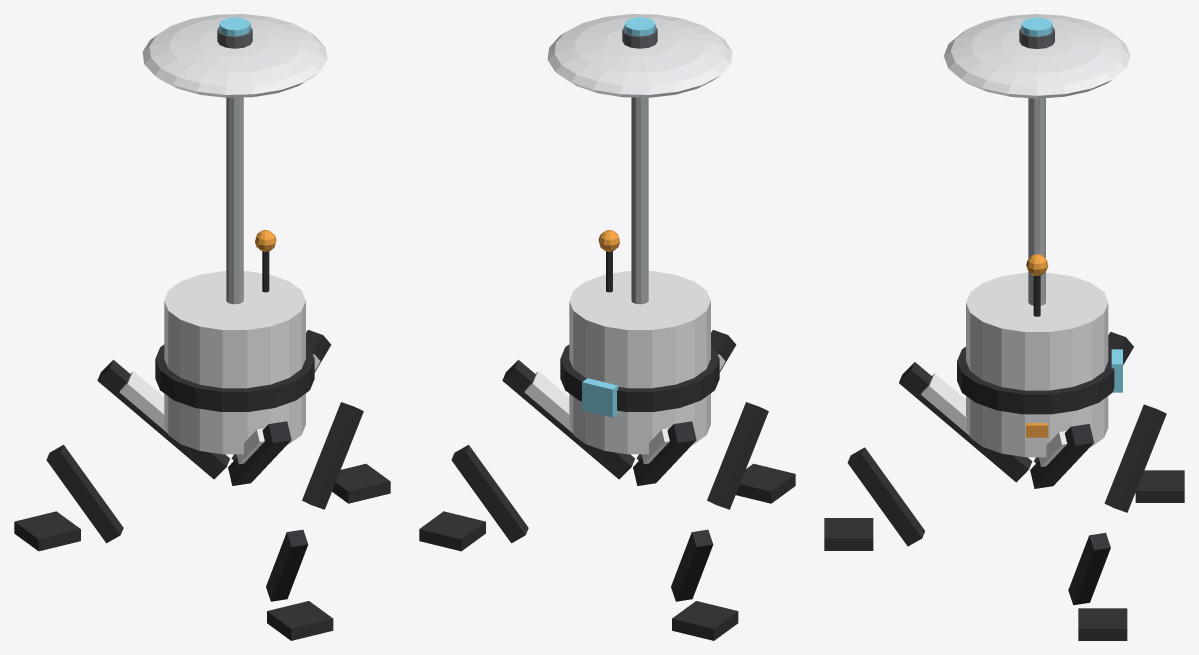
Rendered from SM_Unit_SurveyorBot.glb.
The picture shows the model from 3 angles, left to right: view 1: azimuth 30°, elevation 25°; view 2: azimuth 150°, elevation 25°; view 3: azimuth 270°, elevation 25°; orthographic projection.
Visible parts, largest first — view 1: SM_Unit_SurveyorBot; view 2: SM_Unit_SurveyorBot; view 3: SM_Unit_SurveyorBot.
Part boxes in pixels (box(x1,y1,x2,y2)): SM_Unit_SurveyorBot: box(14, 14, 390, 640); SM_Unit_SurveyorBot: box(419, 14, 795, 640); SM_Unit_SurveyorBot: box(824, 14, 1184, 640).
Size of the model in its own units: 1.69 by 2.63 by 1.62.
